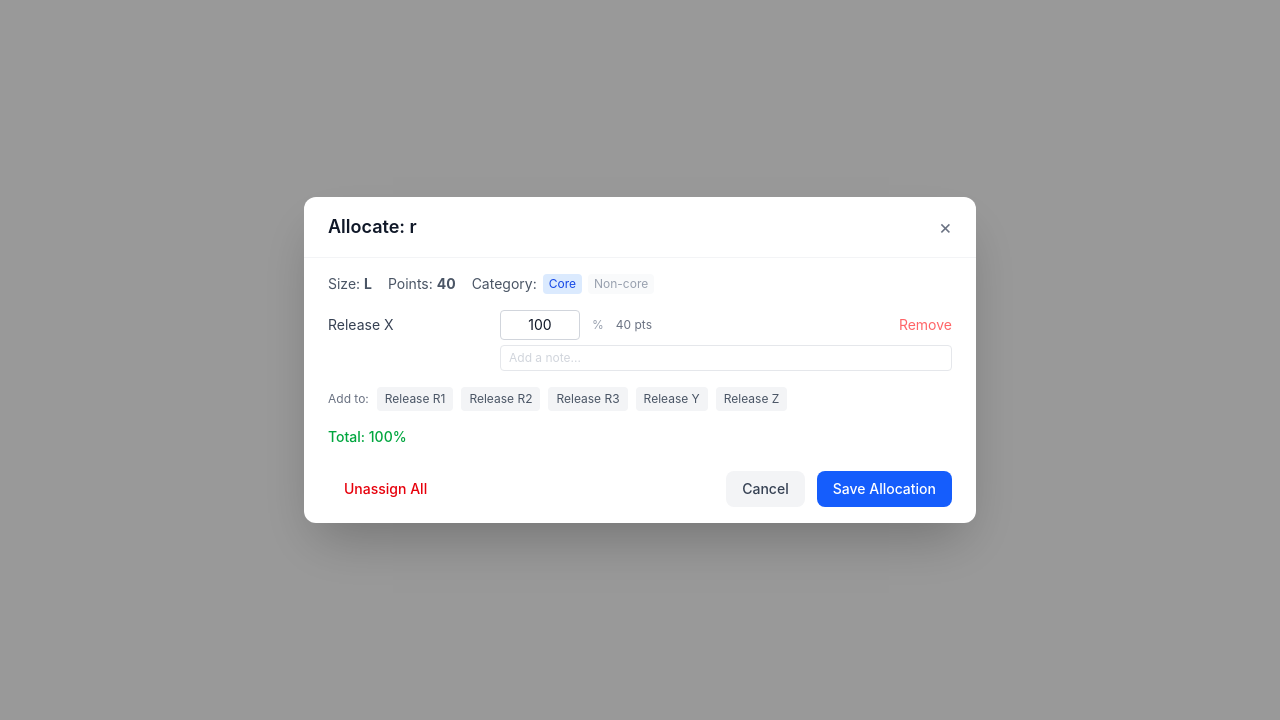
Scenario: AllocationModal says what Save would do › says old progress counts again when the rib has nothing recorded
Click the button "Remove".
click(925, 325)  # box [899, 315, 952, 335]
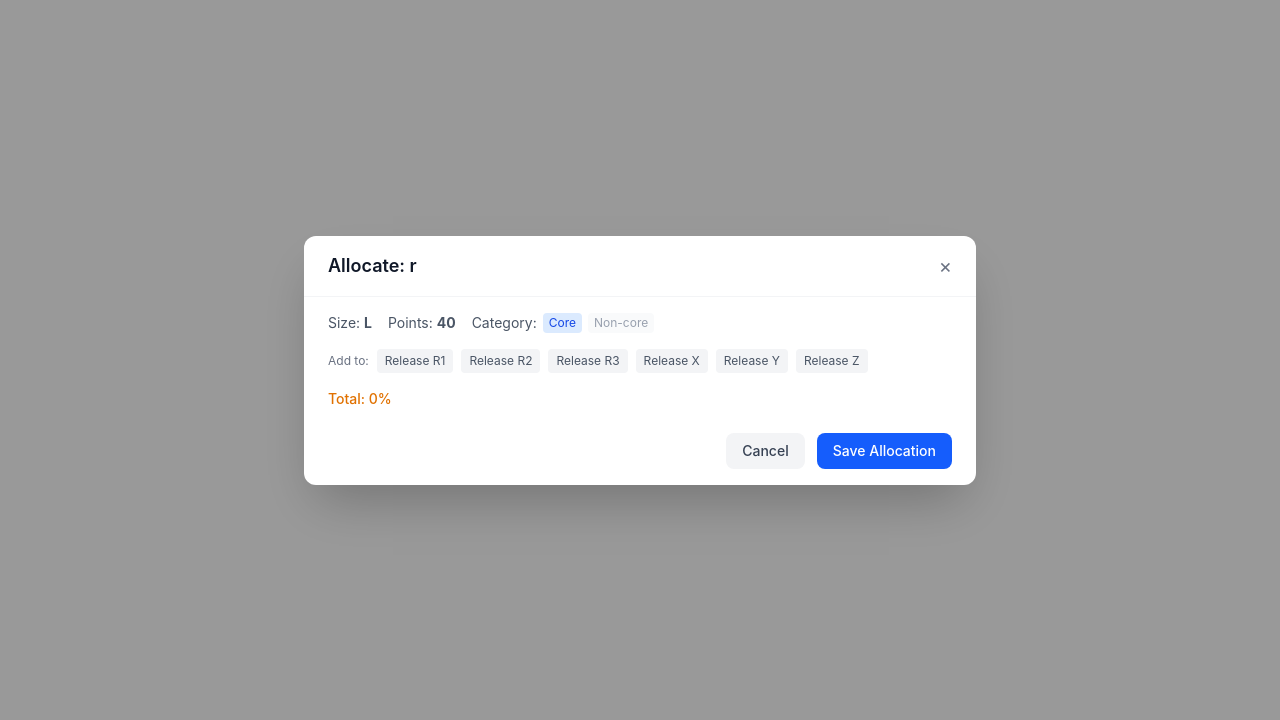
Click the button "Release Y".
click(752, 360)  # box [716, 348, 788, 372]
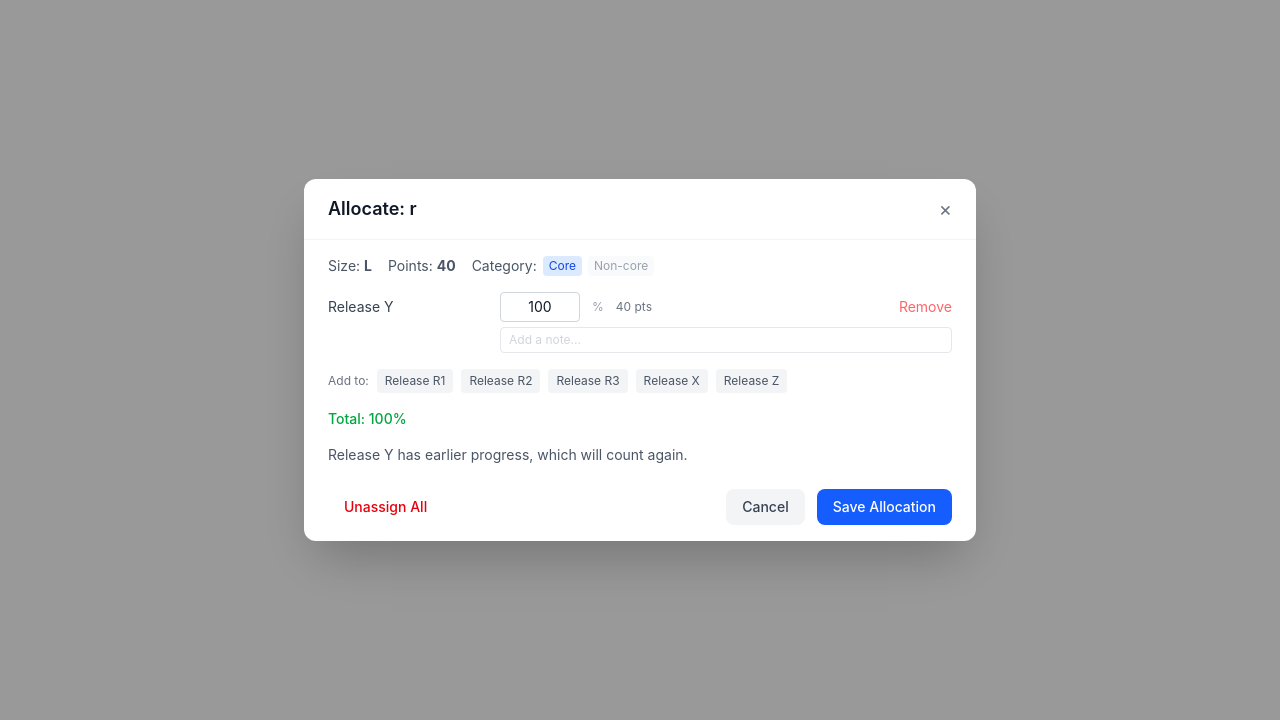
Expected: the text "Release Y has earlier progress, which will count again." is shown, [328, 446, 688, 463]
